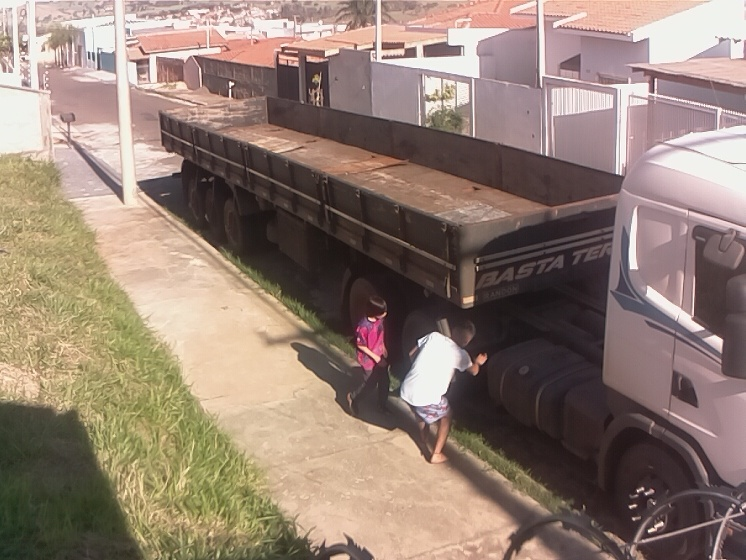person: (388, 318, 489, 466), (346, 292, 399, 420)
